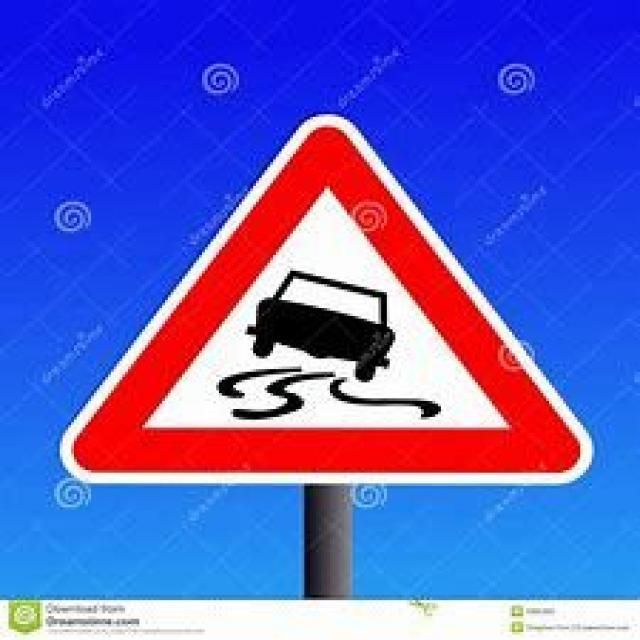slippery road: (67, 118, 593, 484)
